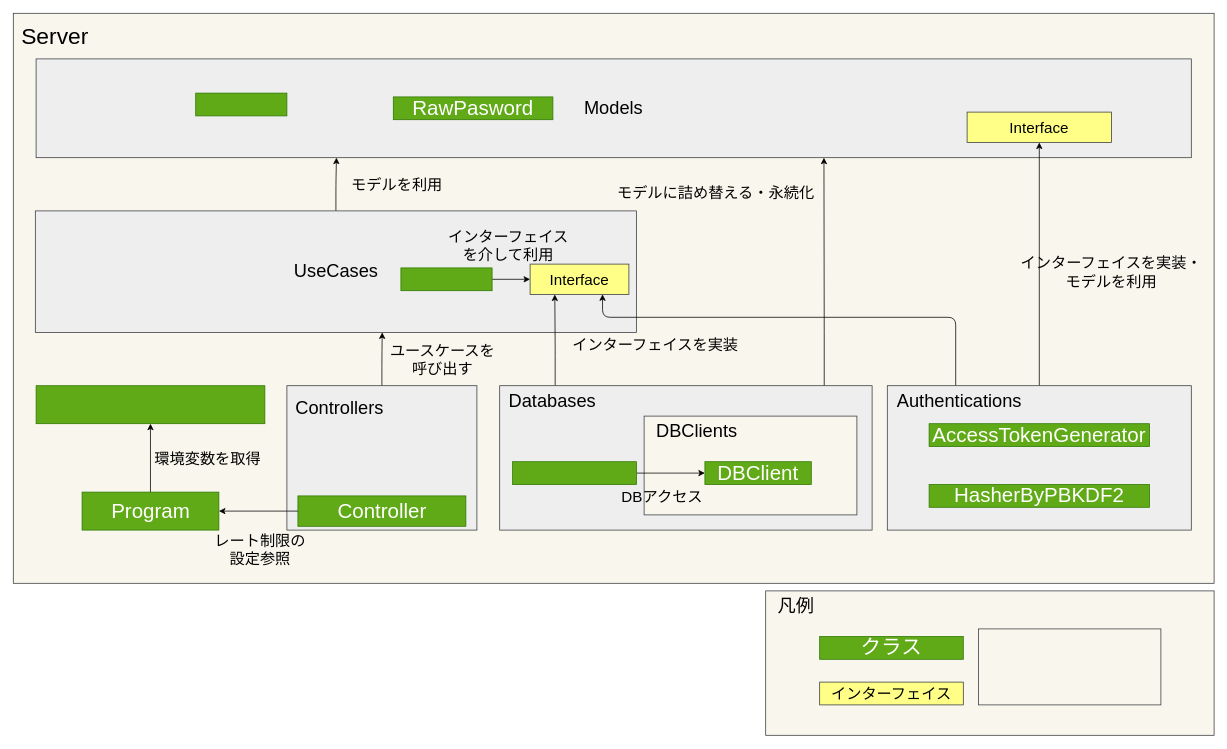
Some shapes in this 1227 by 749 pixel diagram are drawn without their labels. Each missing label, with the box of its shape:
Repository: (512, 461, 636, 484)
ServerEnvironments: (35, 385, 265, 424)
UseCase: (400, 267, 492, 291)
User: (195, 92, 287, 116)
名前空間: (978, 628, 1161, 705)
